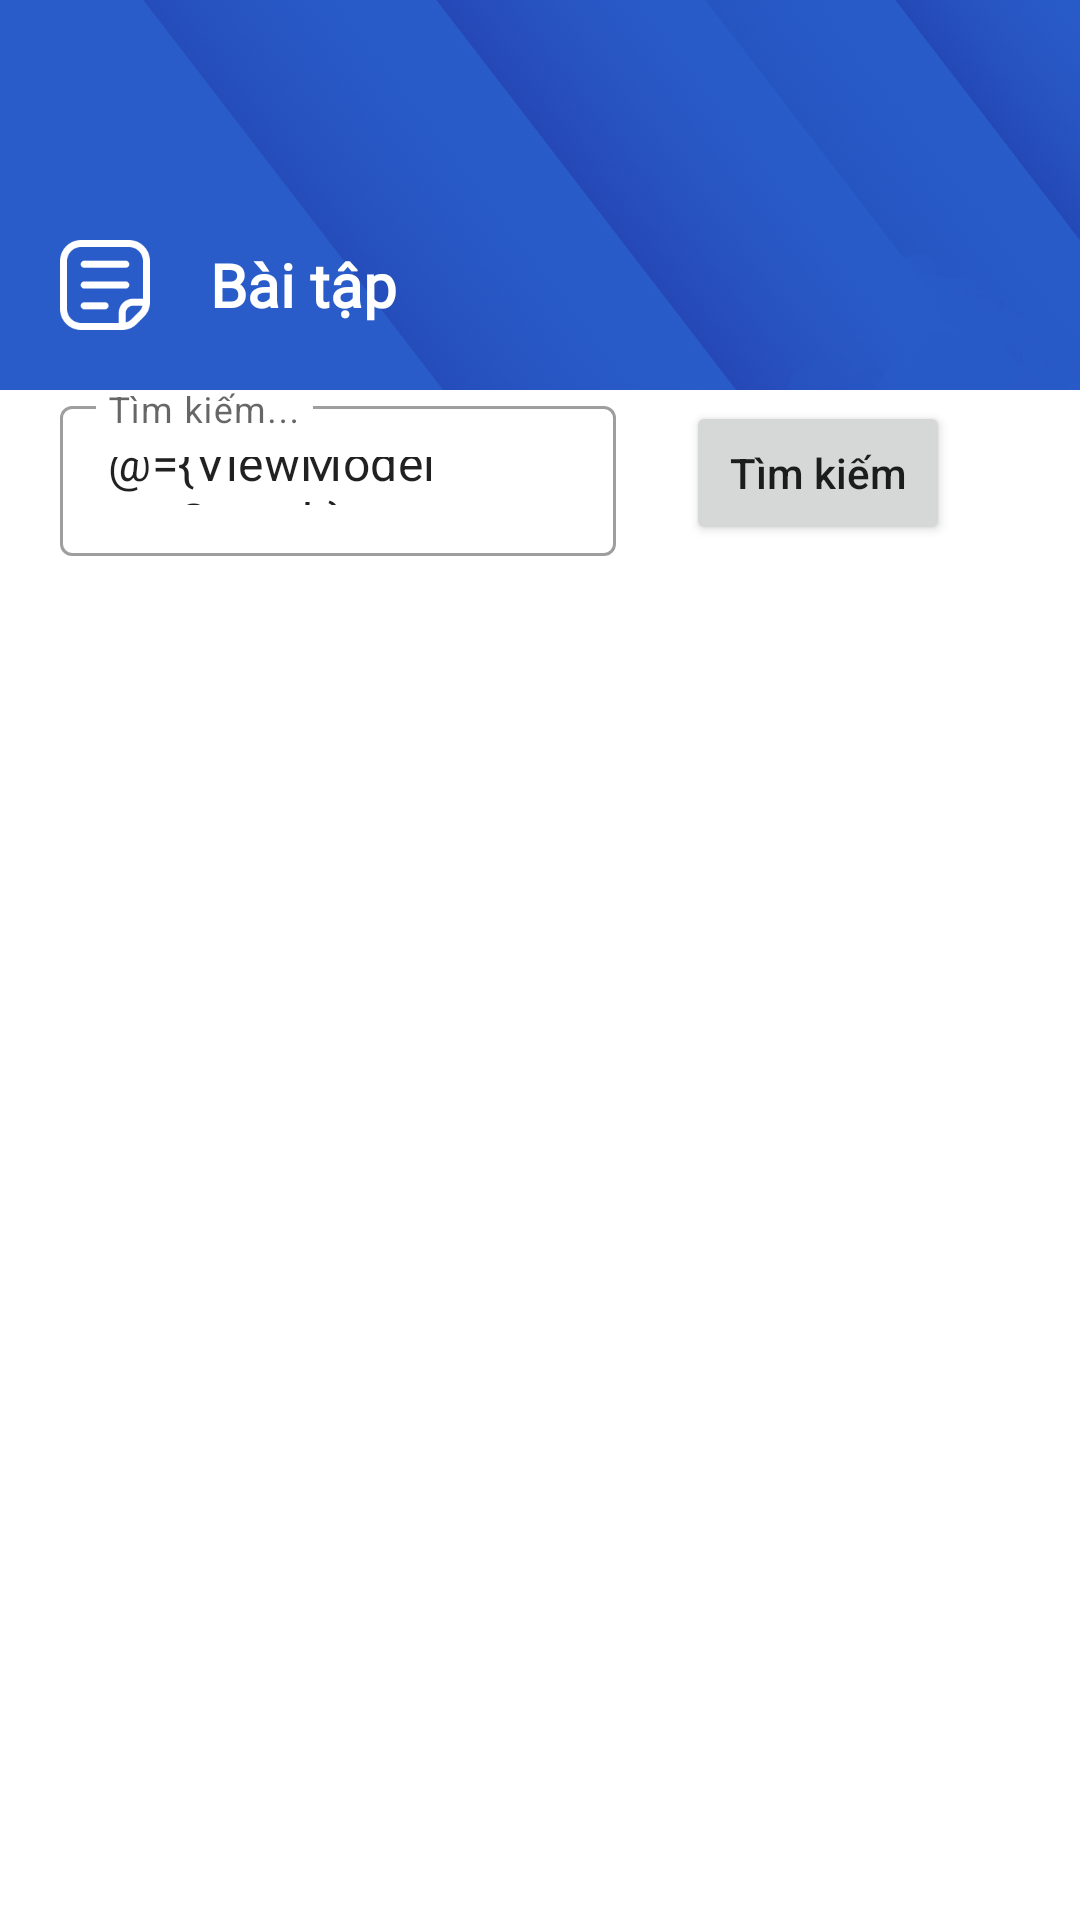

Point at icon controls on the screen. Image size 1080x1920, points as (x=x, y=y).
file: (x=105, y=285)
